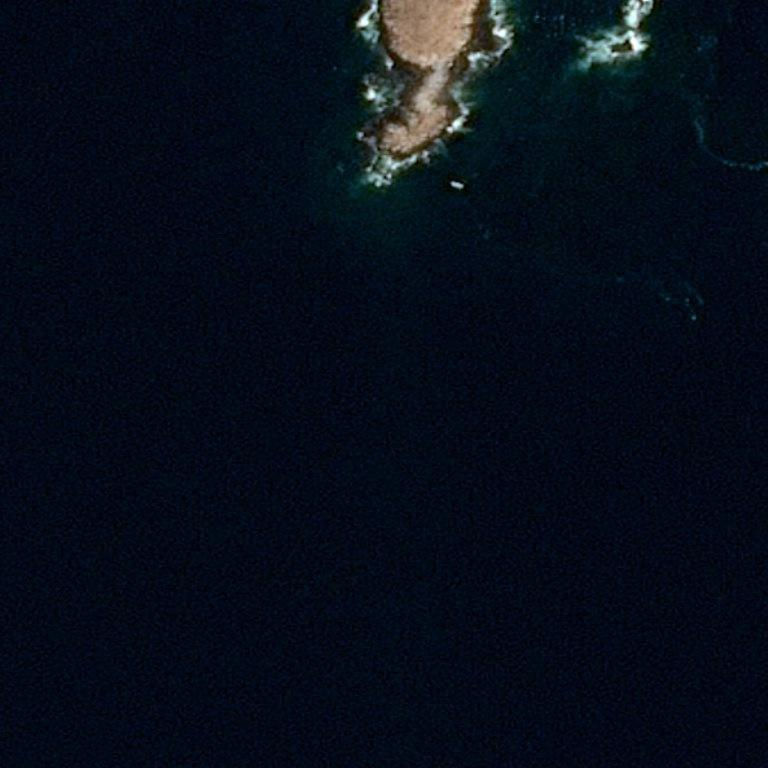ship: (448, 182, 468, 187), (451, 182, 452, 184), (463, 31, 465, 32), (460, 188, 460, 190)
